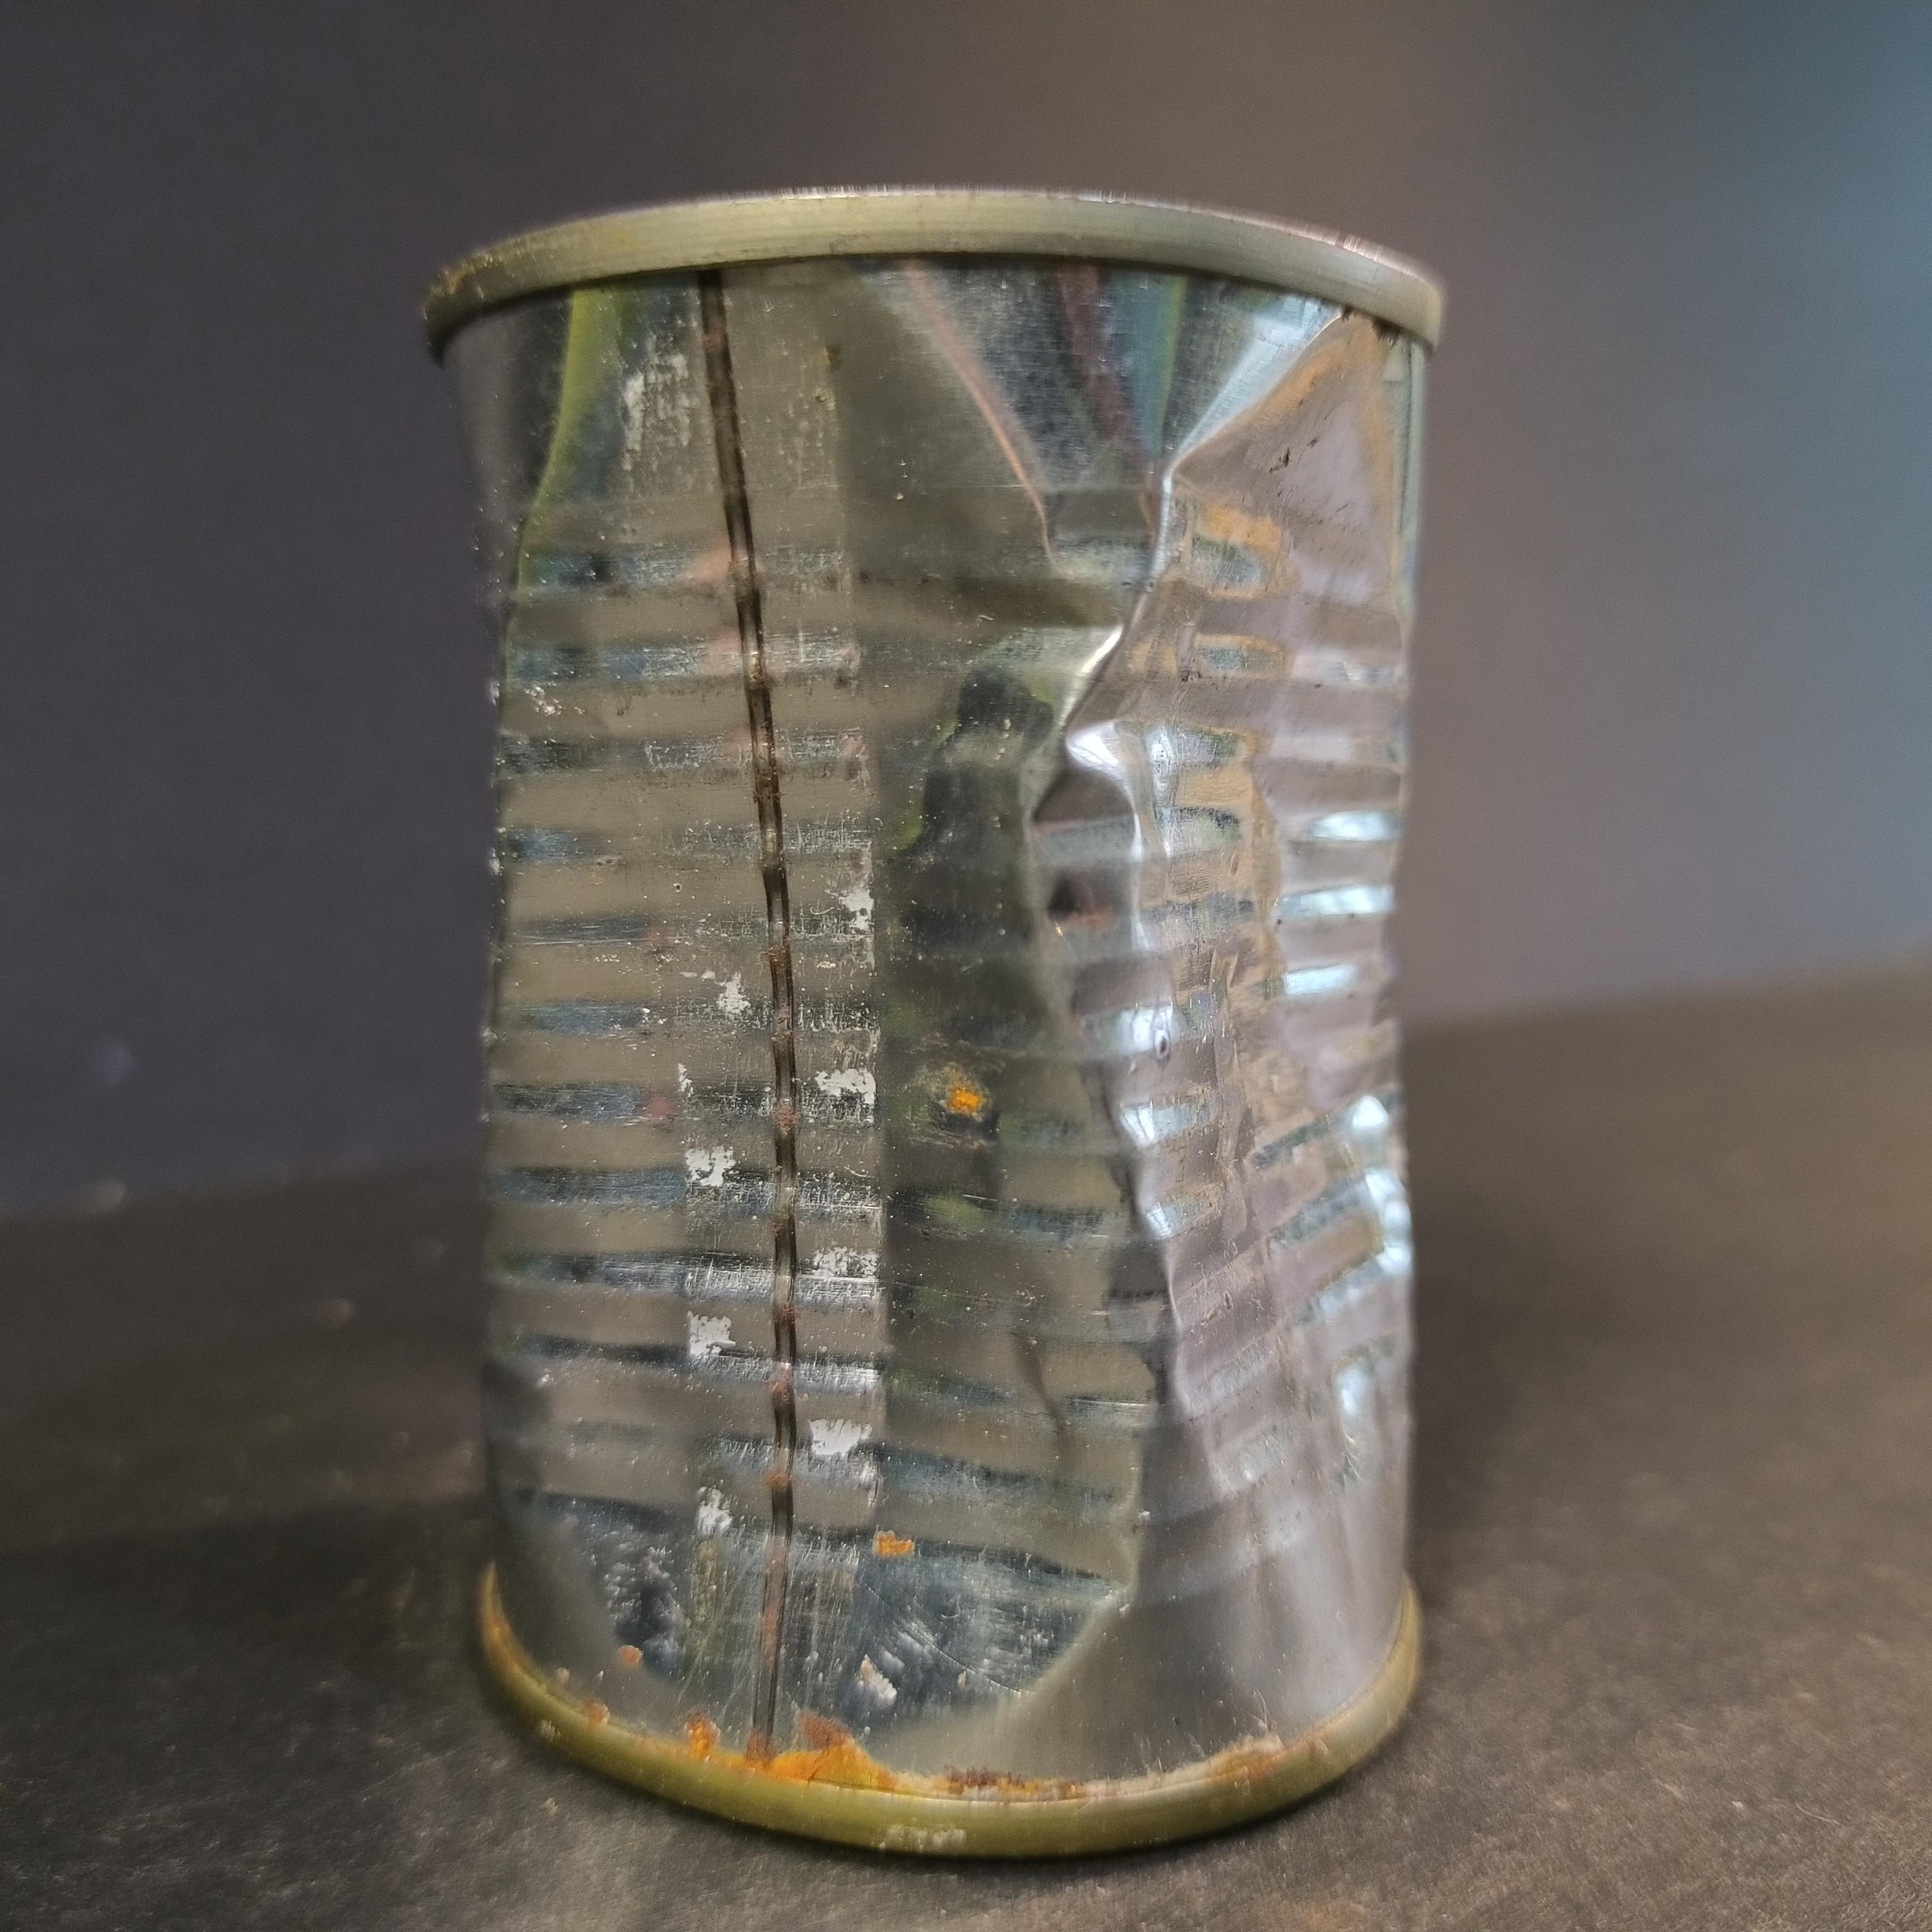Dented: (403, 147, 1511, 1852)
